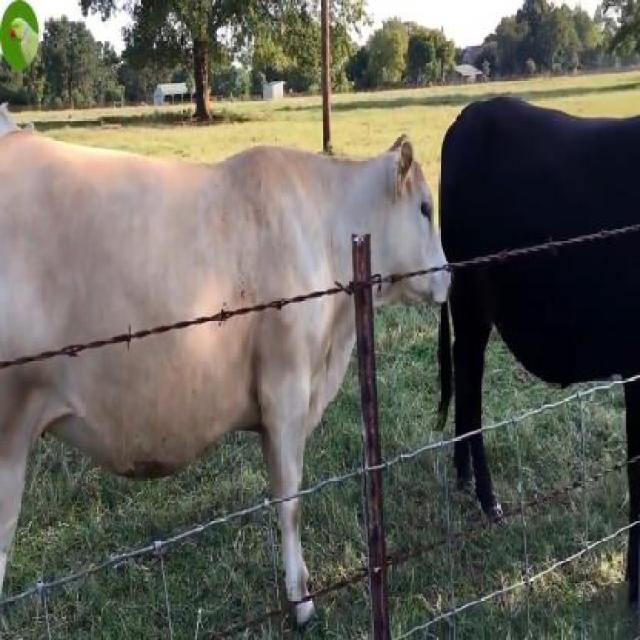Cow: (2, 136, 450, 638)
